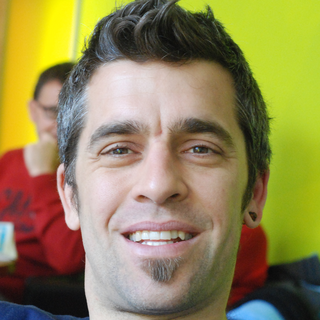eye: (178, 139, 224, 164), (95, 140, 142, 164)
